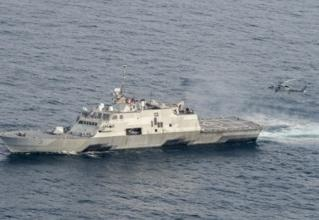warship: (3, 64, 264, 156)
